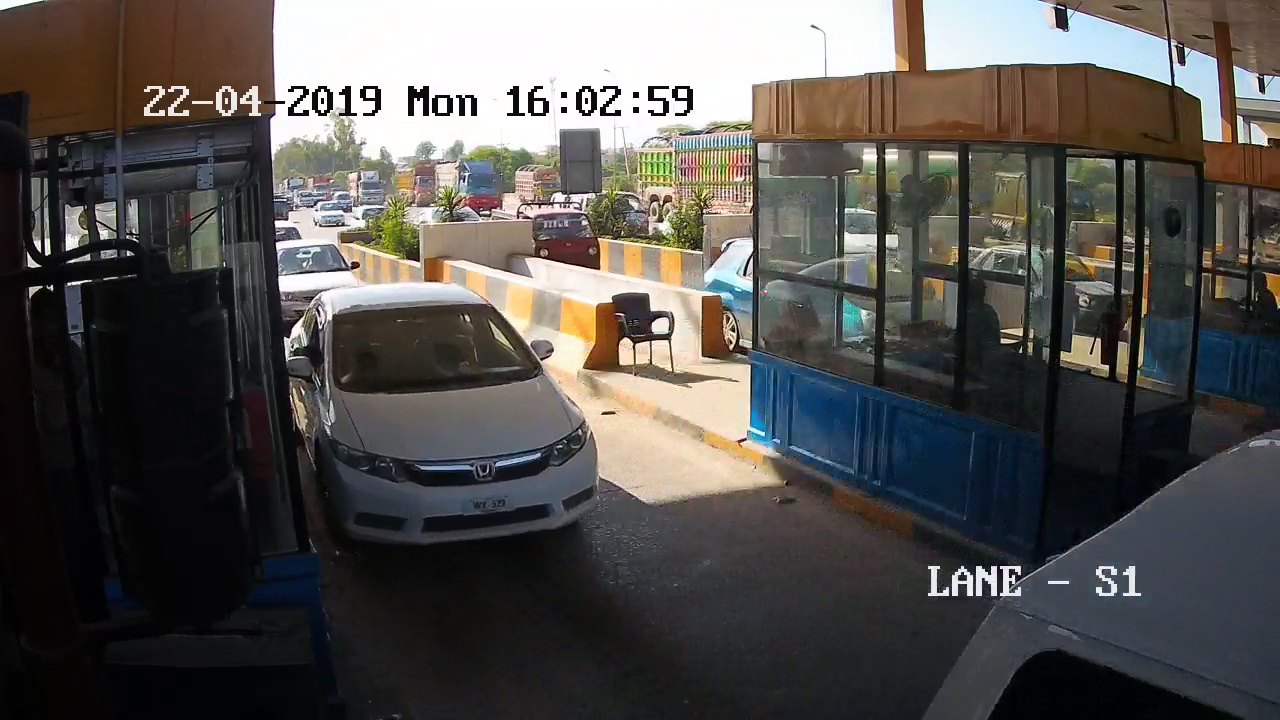car: (286, 294, 610, 557)
